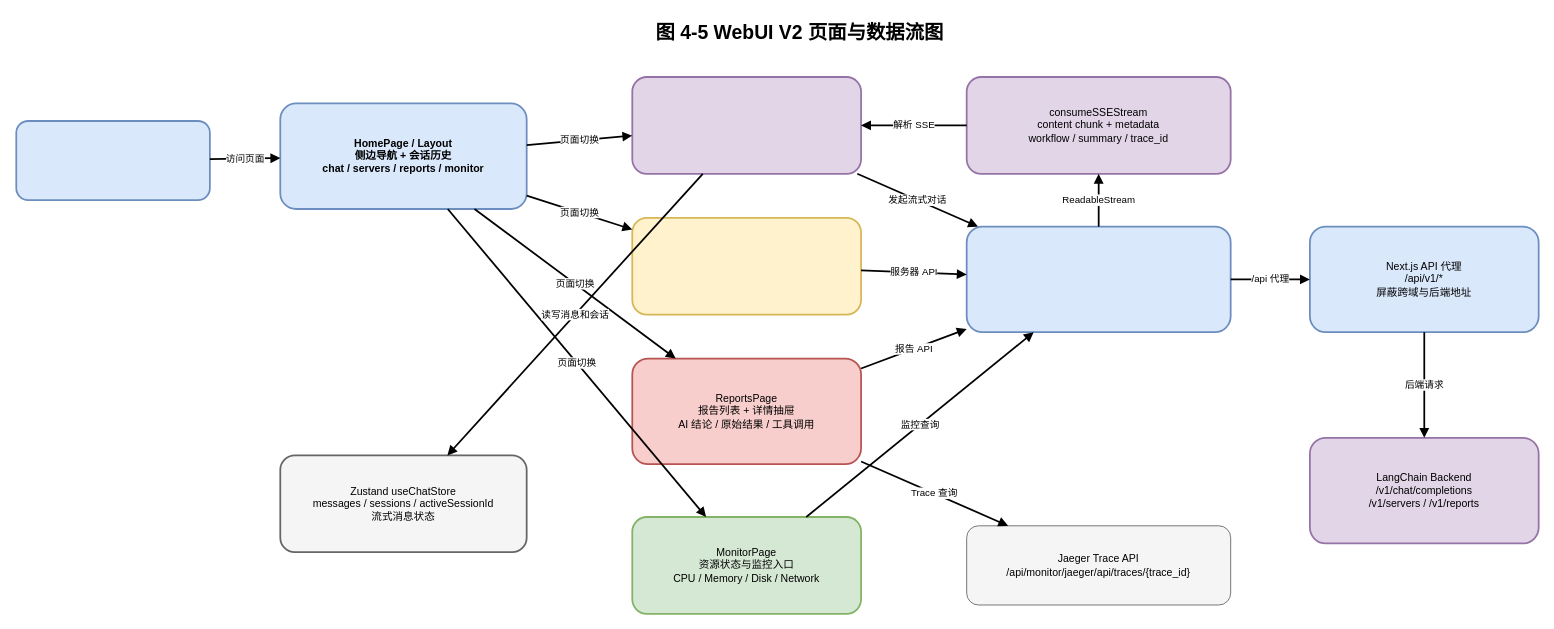
Some shapes in this 1554 by 629 pixel diagram are drawn without their labels. Each missing label, with the box of its shape:
ChatPage 消息列表 / 服务器选择 ChatInput + WorkflowProgress: (631, 76, 862, 174)
ServersPage 服务器列表 Agent 部署 / 状态 / 卸载: (631, 216, 862, 315)
src/lib/api.ts chatCompletionStream / listServers listReports / getTraceSummary: (965, 225, 1231, 333)
用户浏览器 自然语言输入与页面操作: (15, 120, 210, 201)
